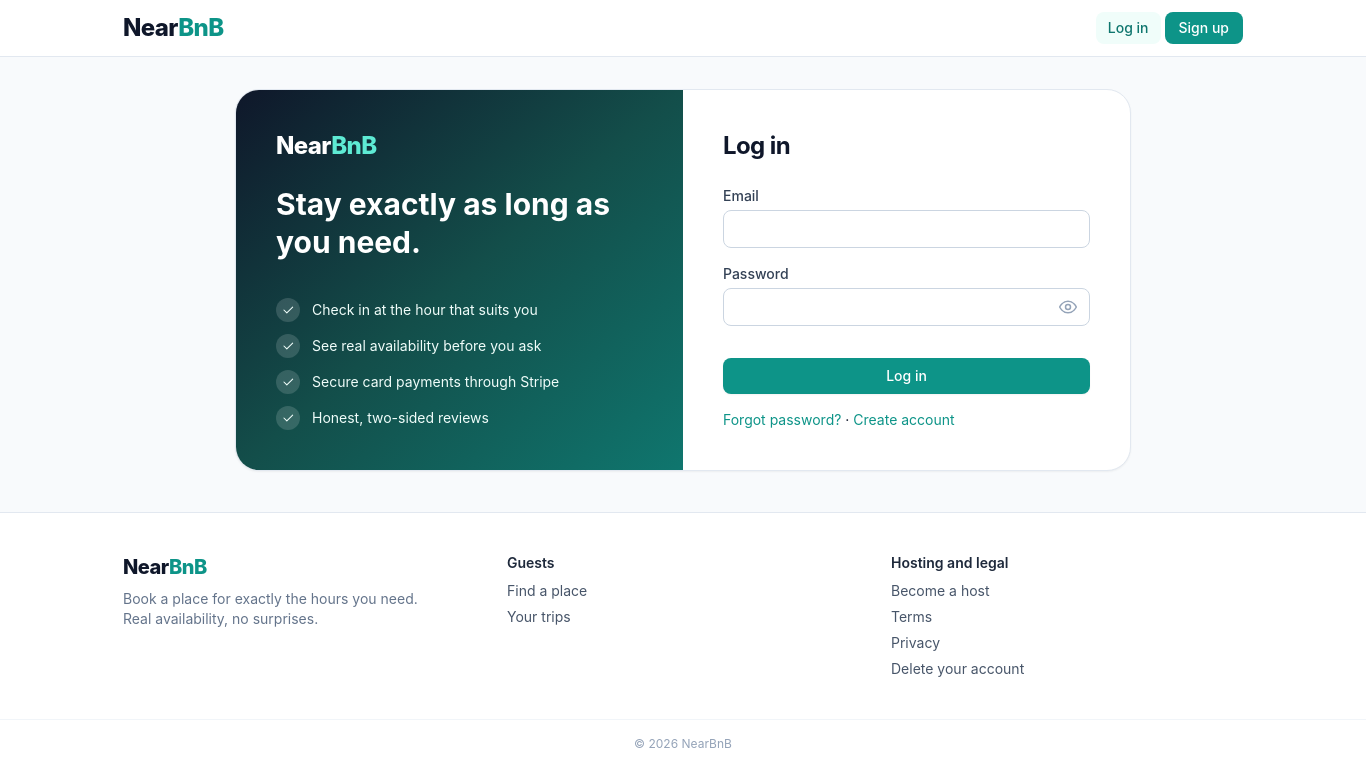
Scenario: login and logout update the screen without a page refresh › logs out immediately and returns to the login page
Type "alice@example.com" into the field labelled "Email".
click(906, 229); type("alice@example.com")  # box [723, 210, 1090, 248]
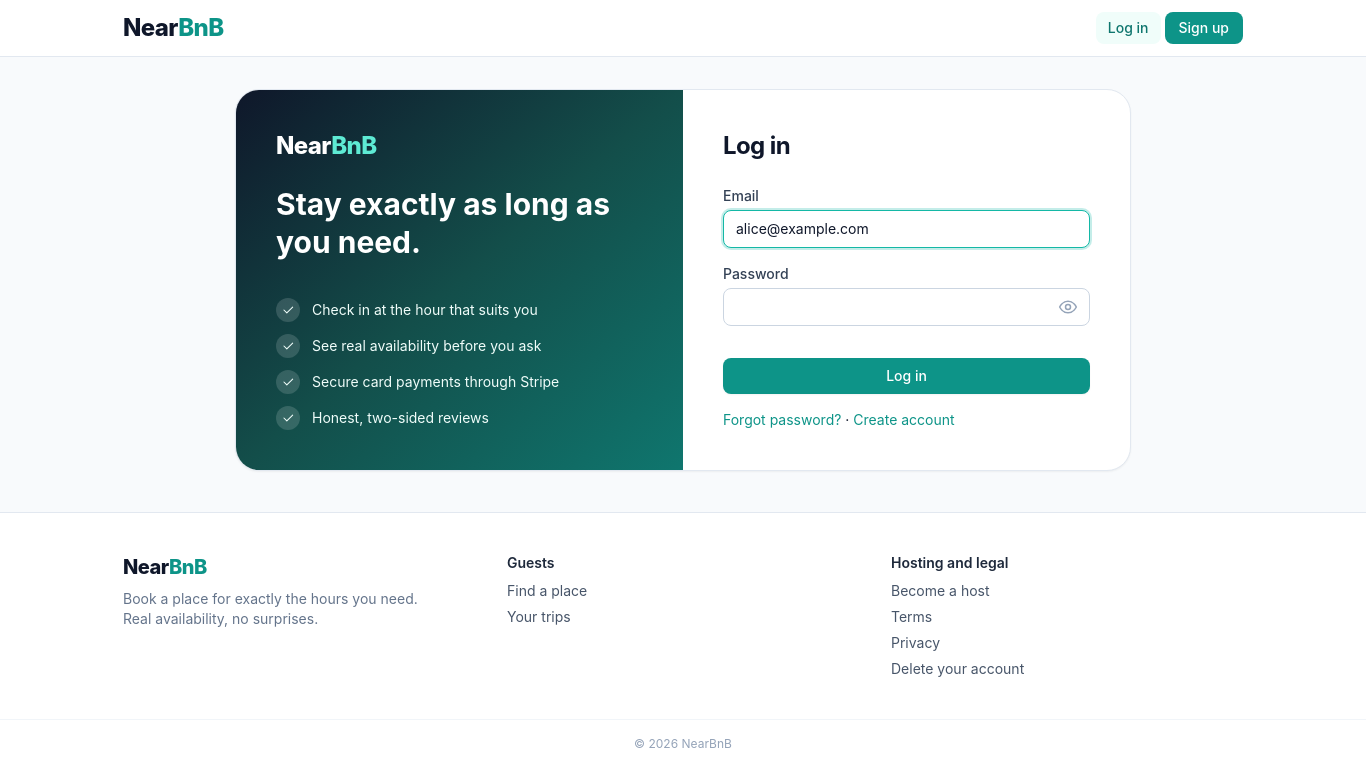
Type "whatever-password" into the password field labelled "Password".
click(906, 307); type("whatever-password")  # box [723, 288, 1090, 326]
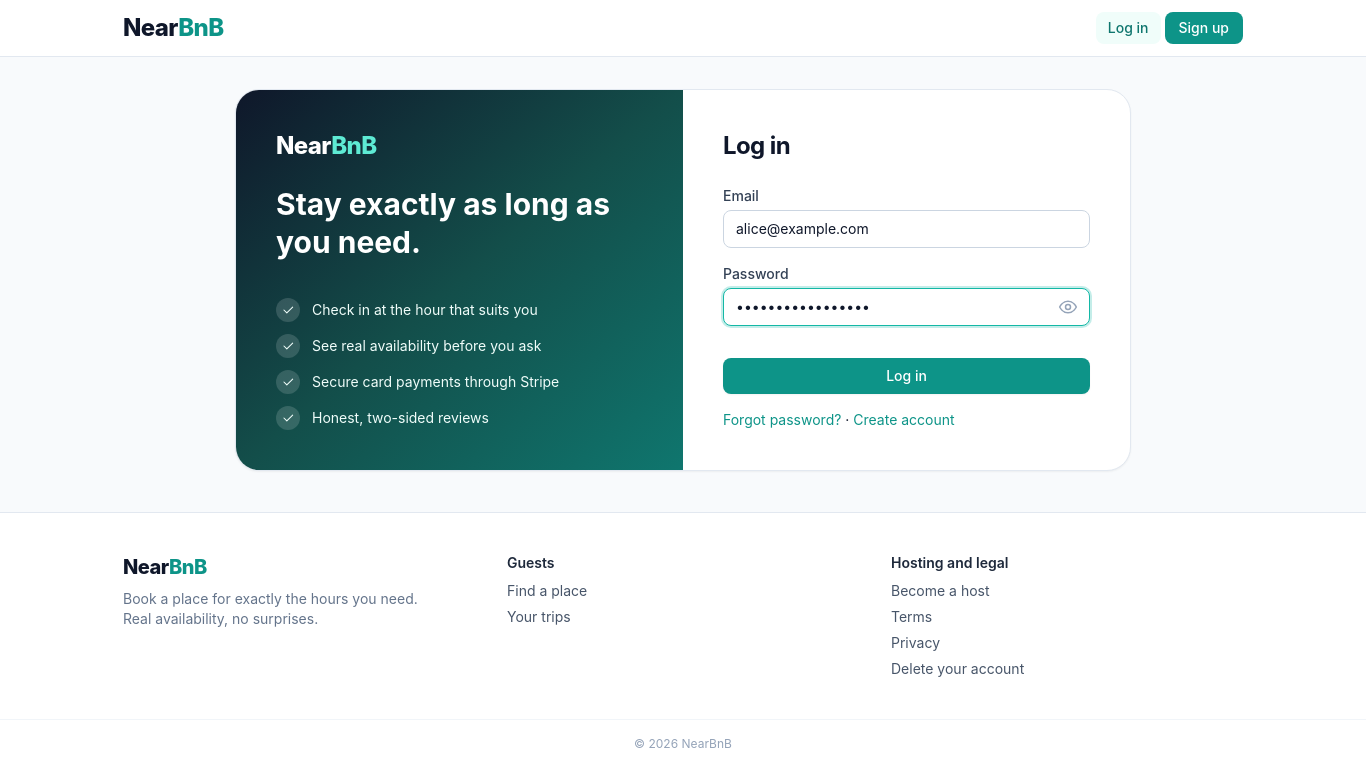
Click the button "Log in".
click(906, 376)  # box [723, 358, 1090, 394]
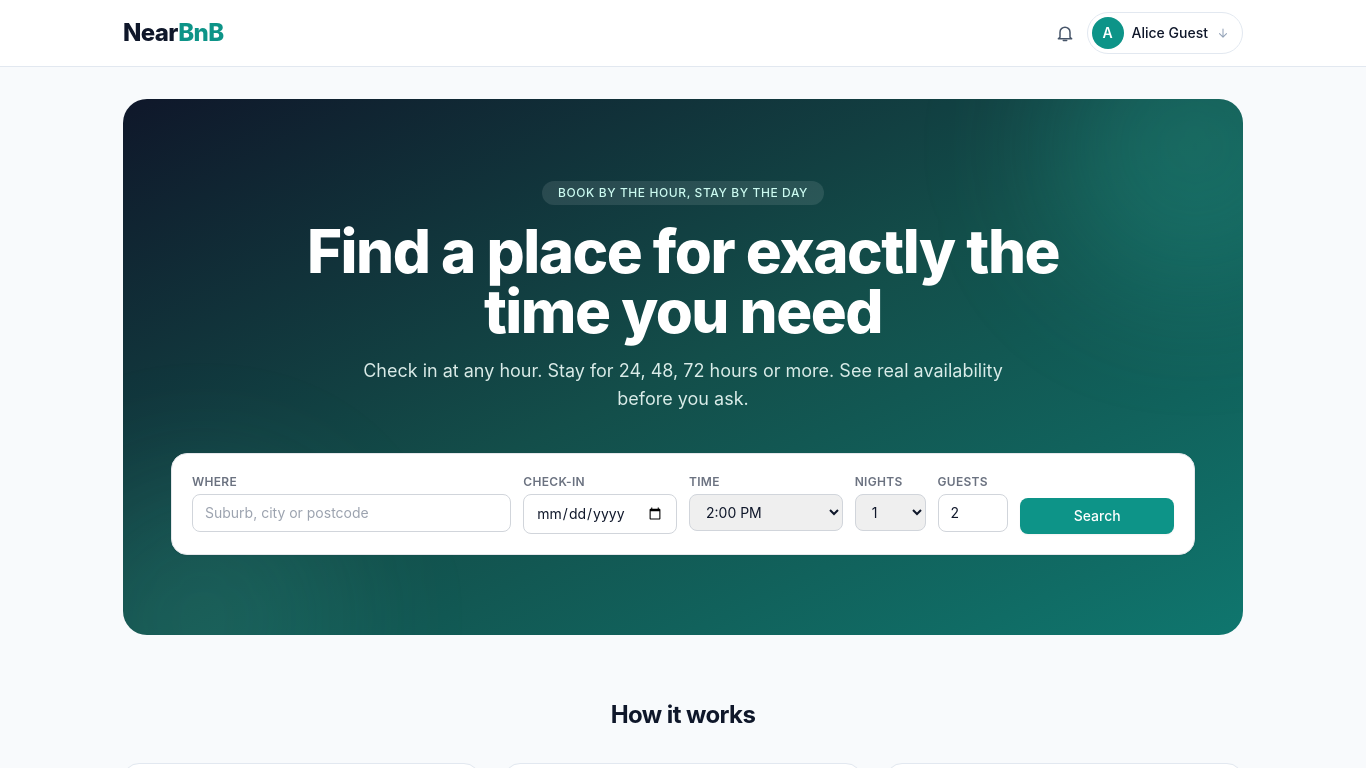
Click the button with aria-label "Account menu".
click(1165, 33)  # box [1087, 12, 1243, 54]
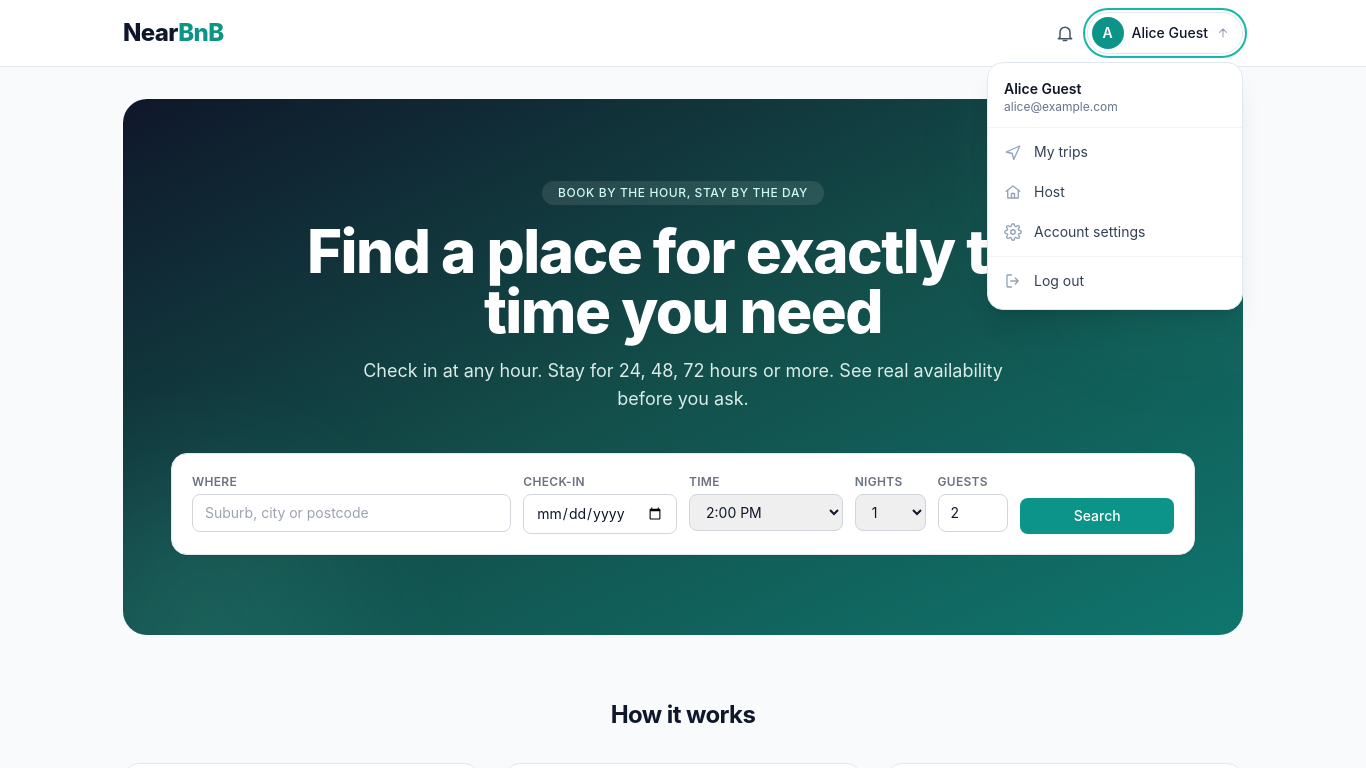
Click the menu item "Log out".
click(1115, 281)  # box [988, 261, 1242, 301]
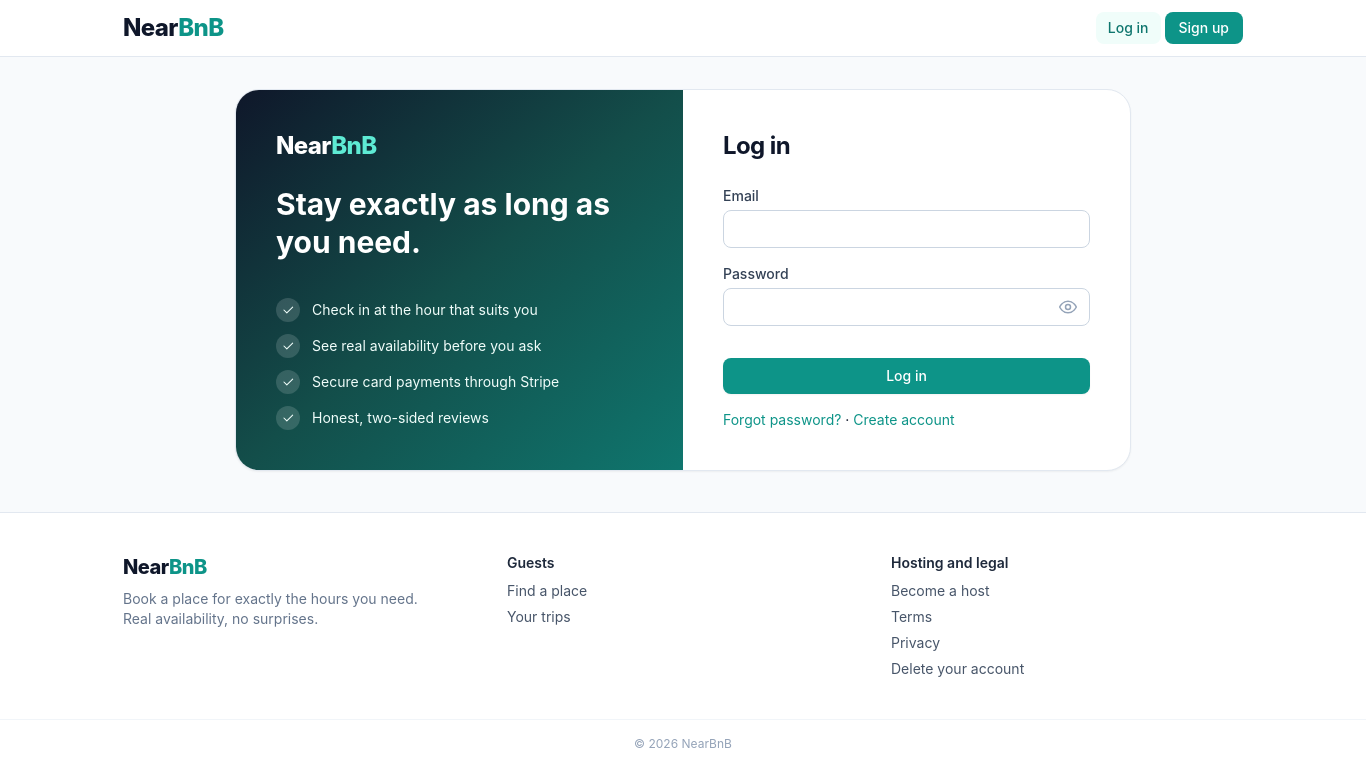
Now the link "Log in" is shown, box [1096, 12, 1160, 44]
Now the button "Alice Guest" is gone
Now the heading "Log in" is shown, box [723, 131, 790, 160]
